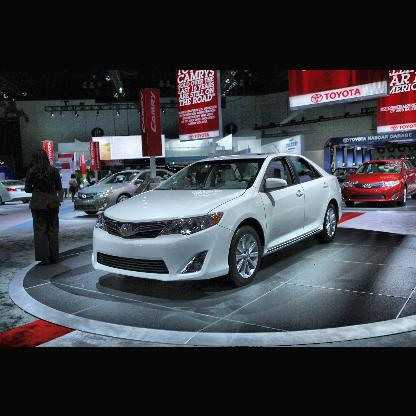Toyota Camry Sedan 2012: (91, 152, 345, 288)
